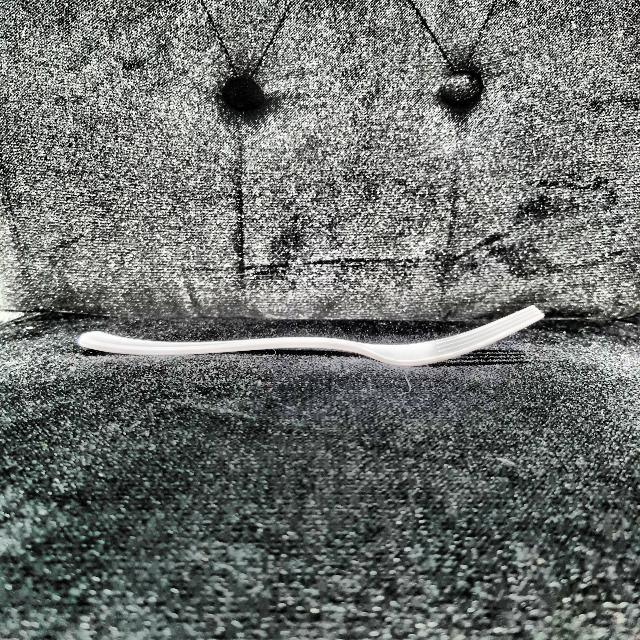plastic utensil: (79, 304, 566, 371)
